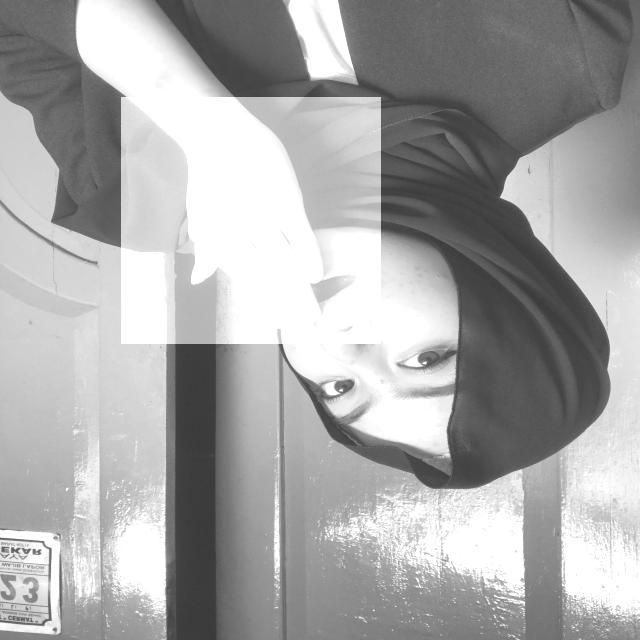ngantuk: (121, 97, 381, 344)
